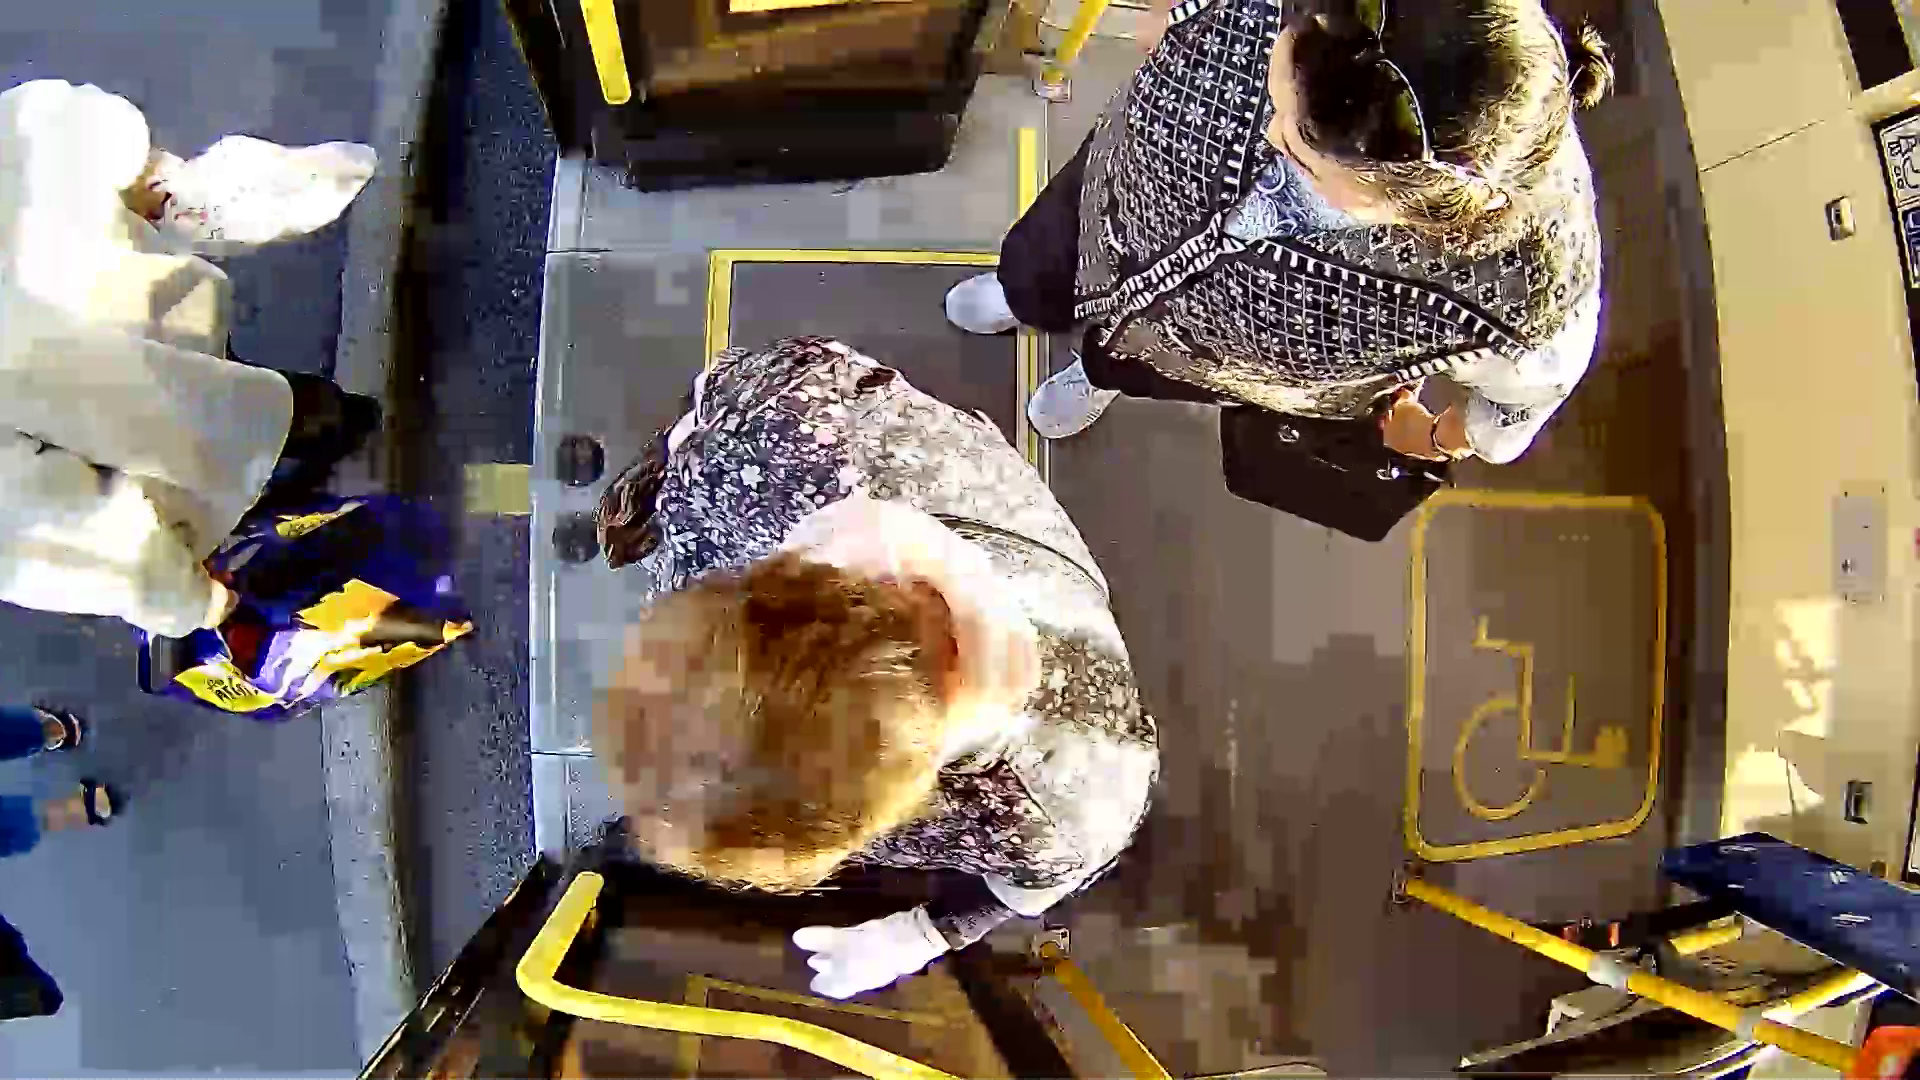person: (484, 272, 1211, 1001), (965, 8, 1710, 541)
